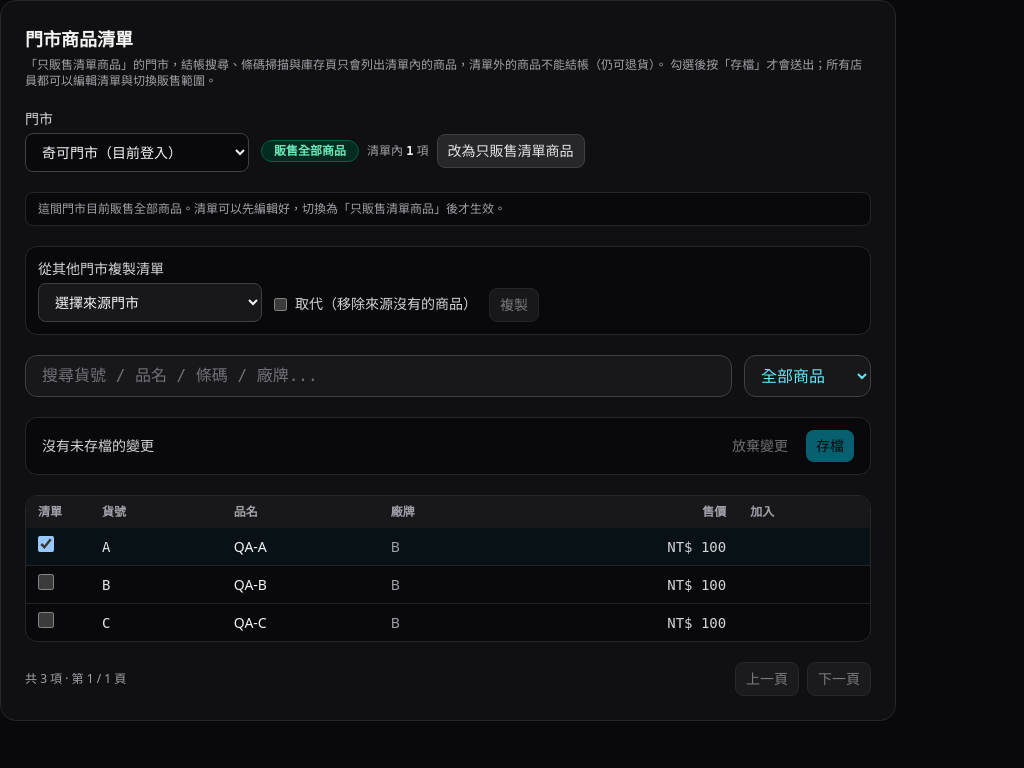
Test case: StoreProductListPanel › any user switches the store scope
Expected: the text with test id "store-product-scope" reads "販售全部商品", [274,142,346,159]
Click the button "改為只販售清單商品".
click(510, 151)  # box [436,134,584,168]
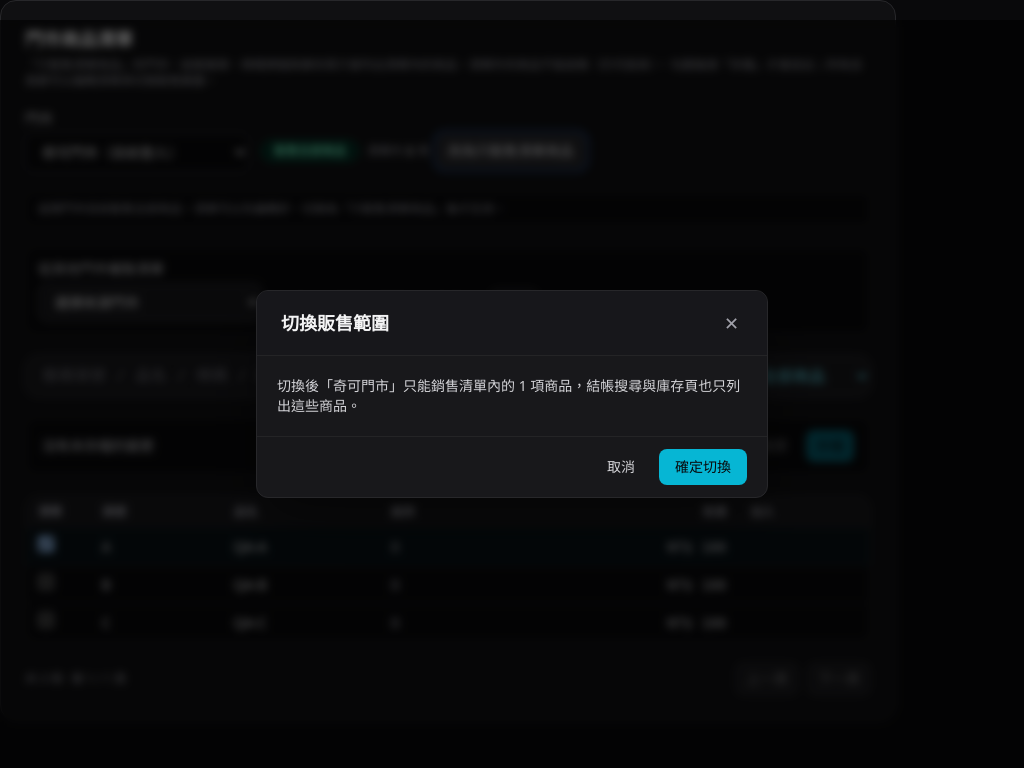
Click the button "確定切換".
click(703, 467)  # box [659,449,747,485]
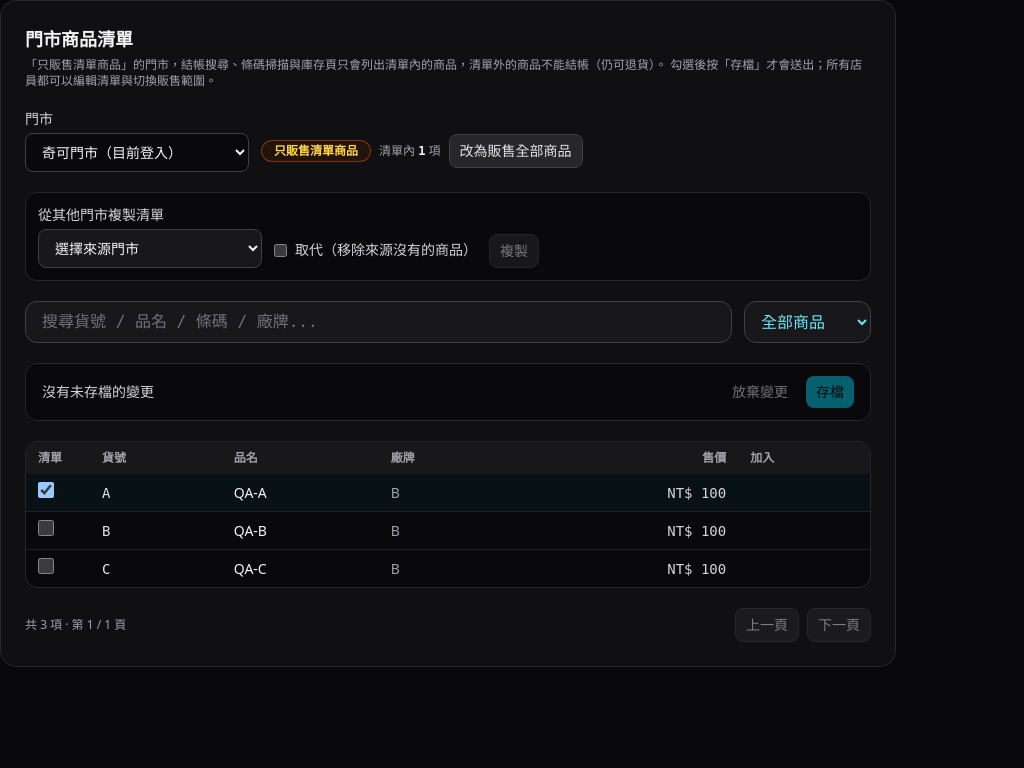
Result: the text with test id "store-product-scope" reads "只販售清單商品" at [274,142,358,159]
